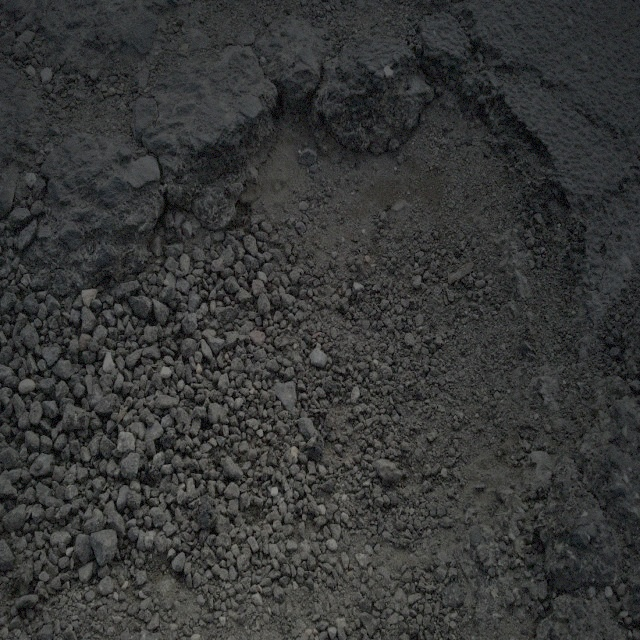pothole: (156, 40, 584, 345)
